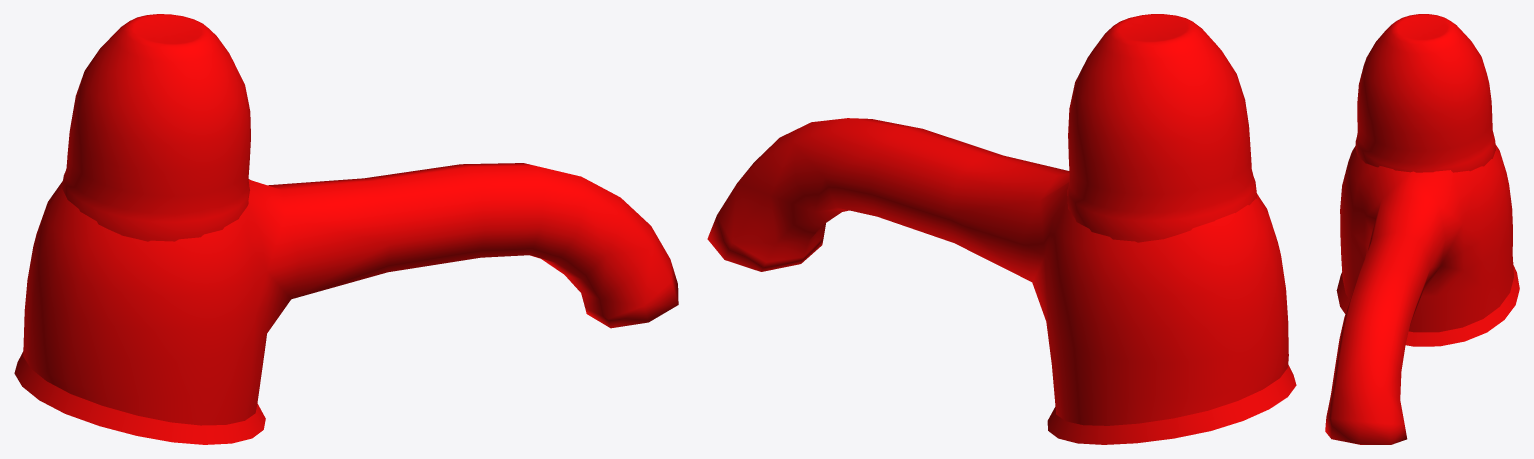
Rendered from Sink_Tap.fbx.
3 renders of one model, left to right at view 1: azimuth 30°, elevation 25°; view 2: azimuth 150°, elevation 25°; view 3: azimuth 270°, elevation 25°, orthographic. The views are drawn at different scales.
Visible parts, largest first — view 1: Sink_Tap; view 2: Sink_Tap; view 3: Sink_Tap.
Part boxes in pixels (left/top/right/bottom): Sink_Tap: left=14, top=14, right=678, bottom=444; Sink_Tap: left=707, top=14, right=1296, bottom=444; Sink_Tap: left=1325, top=14, right=1519, bottom=444.
Bounding box in the file's own units: 14.37 × 9.04 × 5.49.
